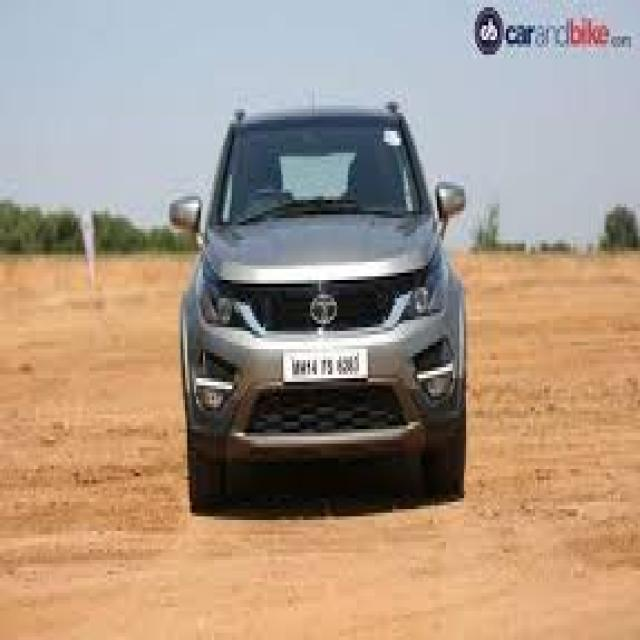car: (162, 106, 477, 516)
